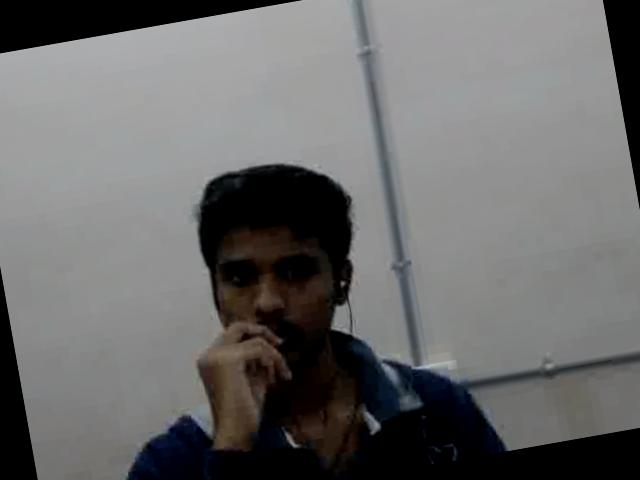bingung: (201, 209, 340, 373)
